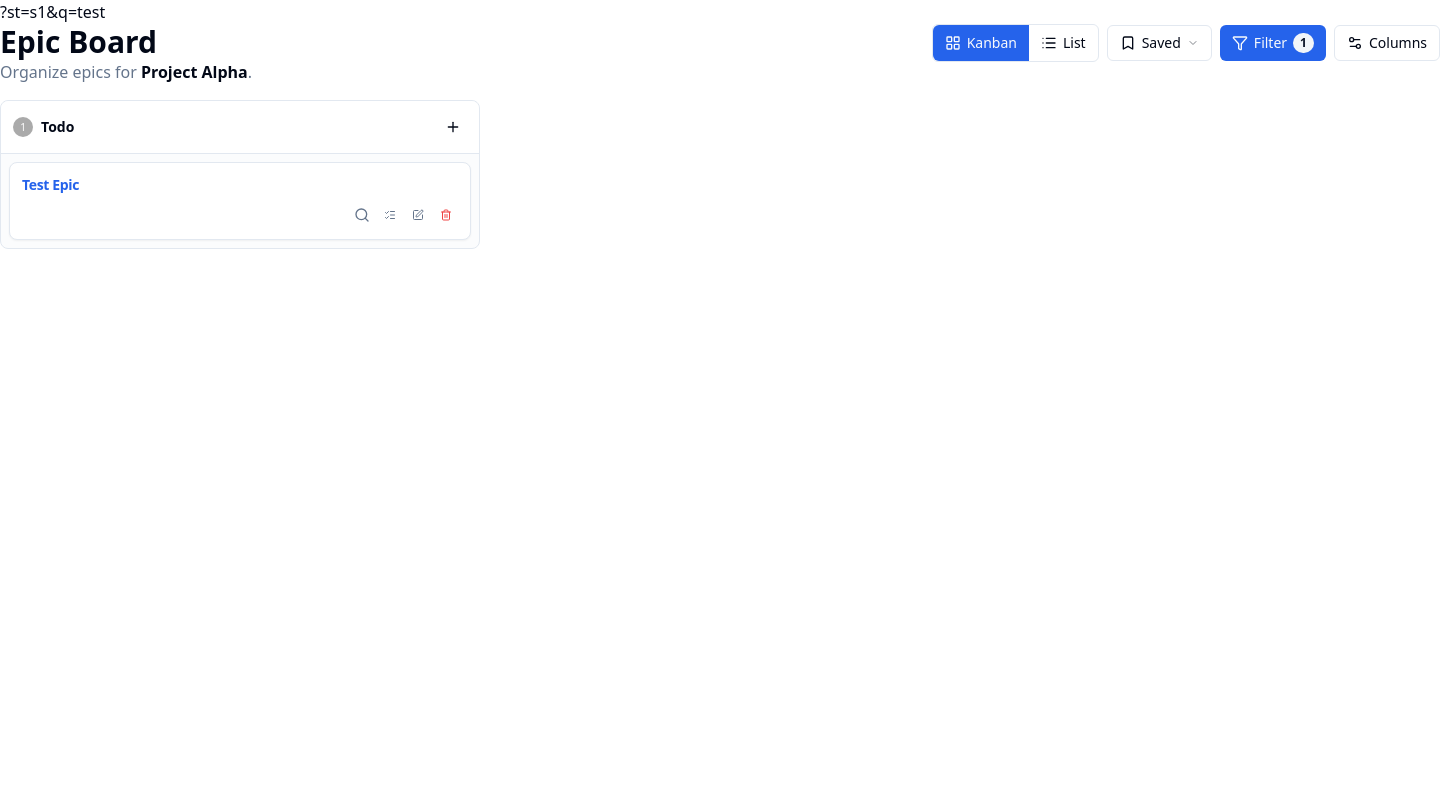
Test case: BoardPage — Saved filters integration › replaces current filters when applying saved filter (not merge)
Expected: the text with test id "loc-search" shows "st=s1", 0,1 -> 105,23
Expected: the text with test id "loc-search" shows "q=test", 0,1 -> 105,23
Note: Open saved filters dropdown
Click the button with aria-label "saved filters".
click(1159, 43)  # box 1107,25 -> 1212,61
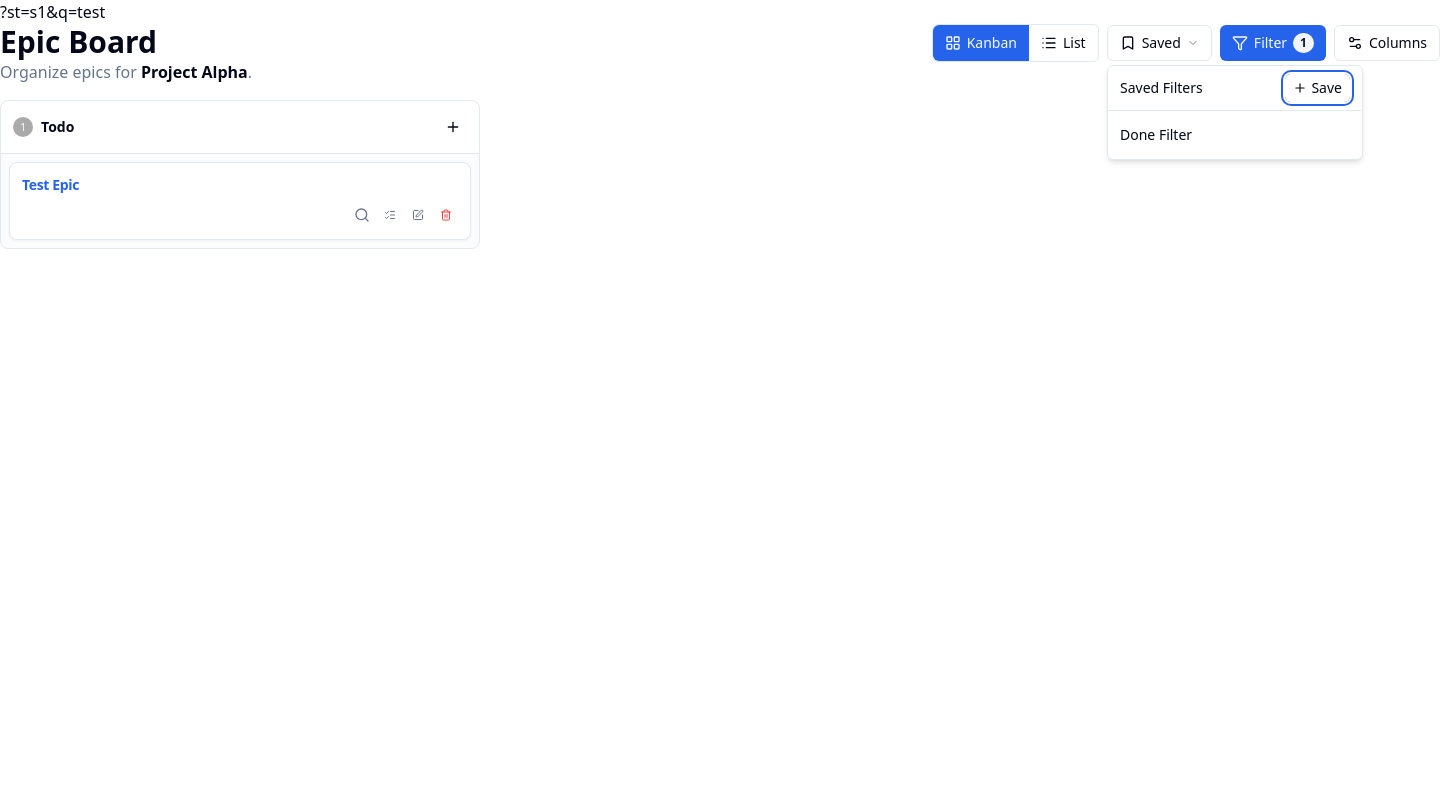
Now the button "Done Filter" is shown
Note: Apply saved filter
Click the button "Done Filter".
click(1206, 135)  # box 1120,125 -> 1292,145
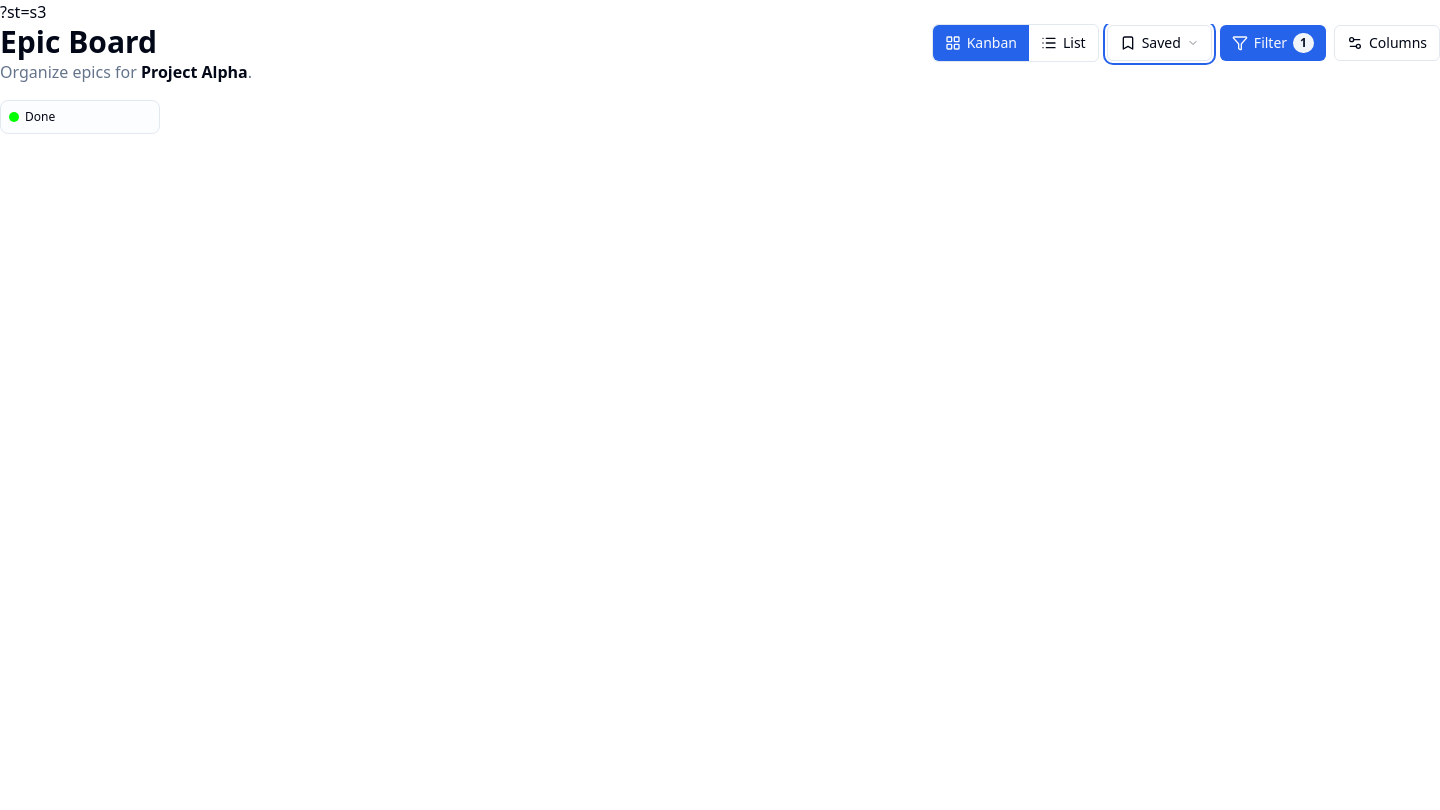
Now the text with test id "loc-search" reads "?st=s3", box 0,1 -> 46,23
Now the text with test id "loc-search" no longer shows "q=test"
